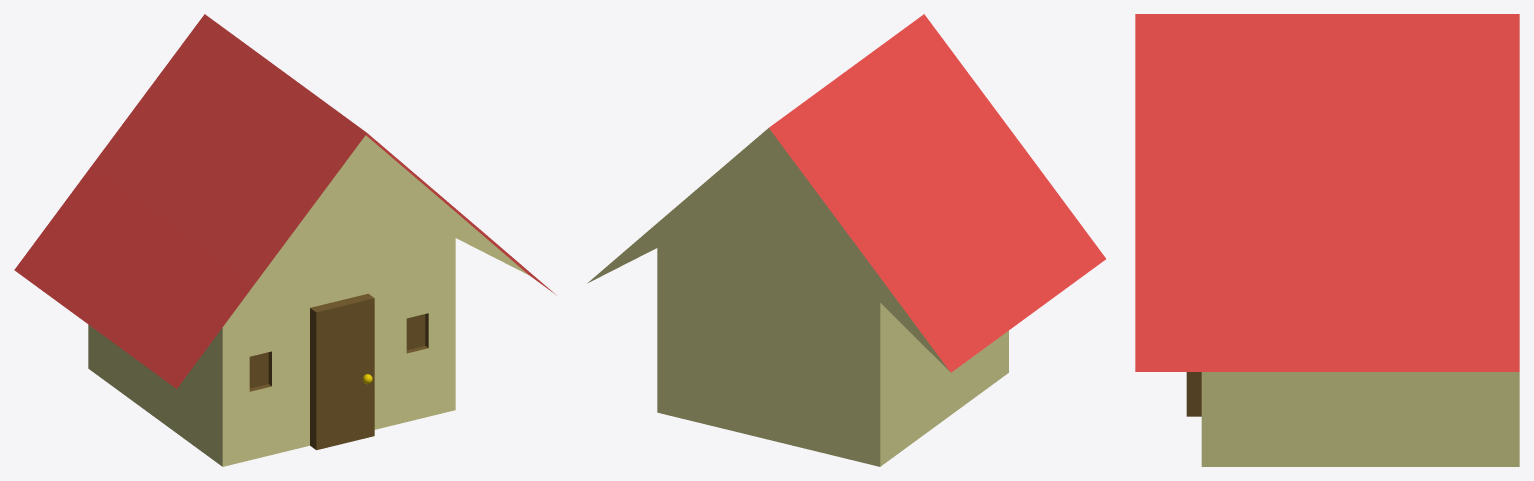
File: Test House.fbx
3 views of the same model, side by side, from view 1: azimuth 30°, elevation 25°; view 2: azimuth 150°, elevation 25°; view 3: azimuth 270°, elevation 25° (orthographic). The views are drawn at different scales.
Visible parts, largest first — view 1: Test House; view 2: Test House; view 3: Test House.
Boxes of the visible parts, bbox=[...] form: Test House: bbox=[14, 14, 556, 466]; Test House: bbox=[587, 14, 1105, 466]; Test House: bbox=[1135, 14, 1519, 466].
Size of the model in its own units: 1943 by 1589 by 1436.
